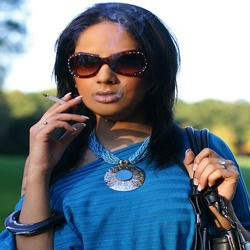smoking: (29, 91, 90, 171)
